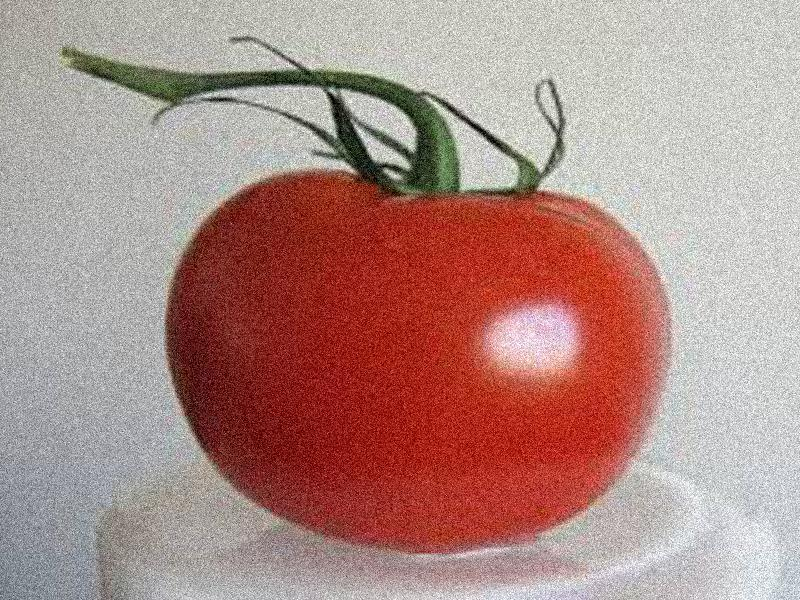Tomato: (164, 170, 670, 551)
